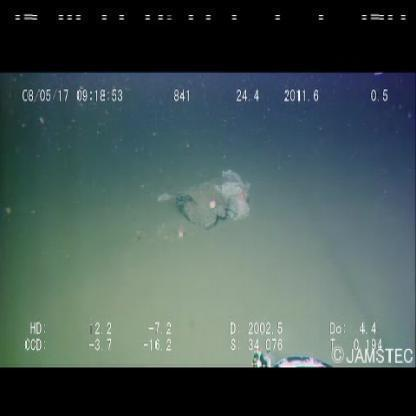Rác: (175, 169, 250, 230)
